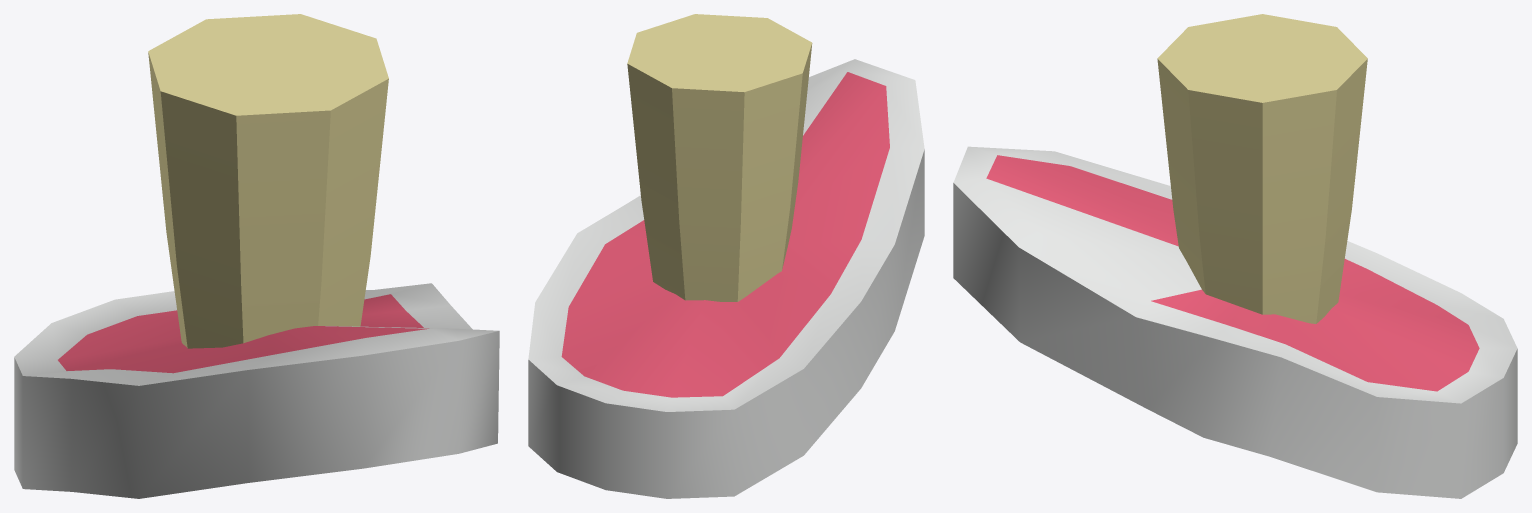
Rendered from koma2.fbx.
3 renders of one model, left to right at view 1: azimuth 30°, elevation 25°; view 2: azimuth 150°, elevation 25°; view 3: azimuth 270°, elevation 25°, orthographic. The views are drawn at different scales.
Parts seen in each view (by area): view 1: pCylinder1, pCube1; view 2: pCylinder1, pCube1; view 3: pCylinder1, pCube1.
Boxes of the visible parts, left/top/right/bottom form: pCylinder1: left=14, top=283, right=499, bottom=498; pCube1: left=148, top=14, right=388, bottom=348; pCylinder1: left=528, top=59, right=924, bottom=498; pCube1: left=627, top=14, right=812, bottom=301; pCylinder1: left=953, top=146, right=1517, bottom=498; pCube1: left=1157, top=14, right=1367, bottom=323.
Bounding box in the file's own units: 2.18 × 2.55 × 3.37.
